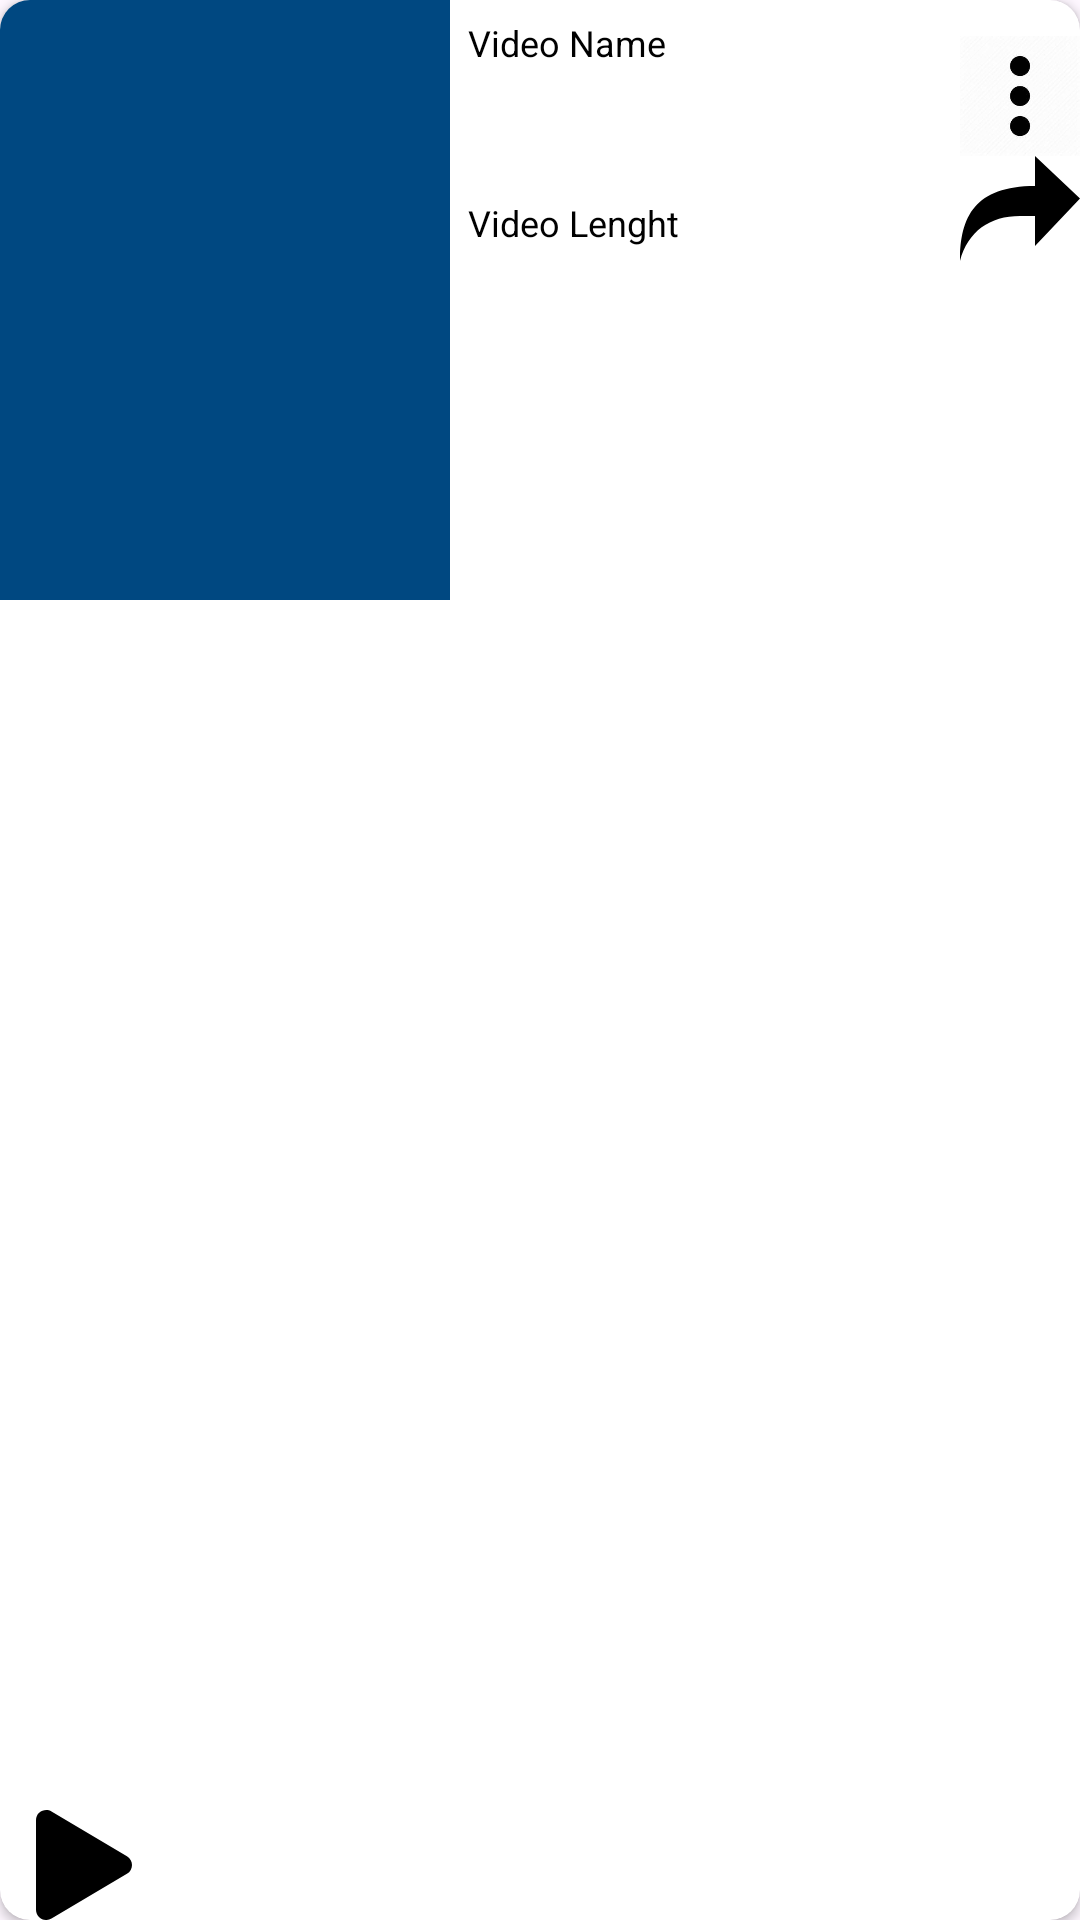

Icon click points for this 1080px x 1920px phone screenshot, format point (x, y):
play: point (84, 1865)
share: point (1020, 208)
threedots: point (1020, 96)
